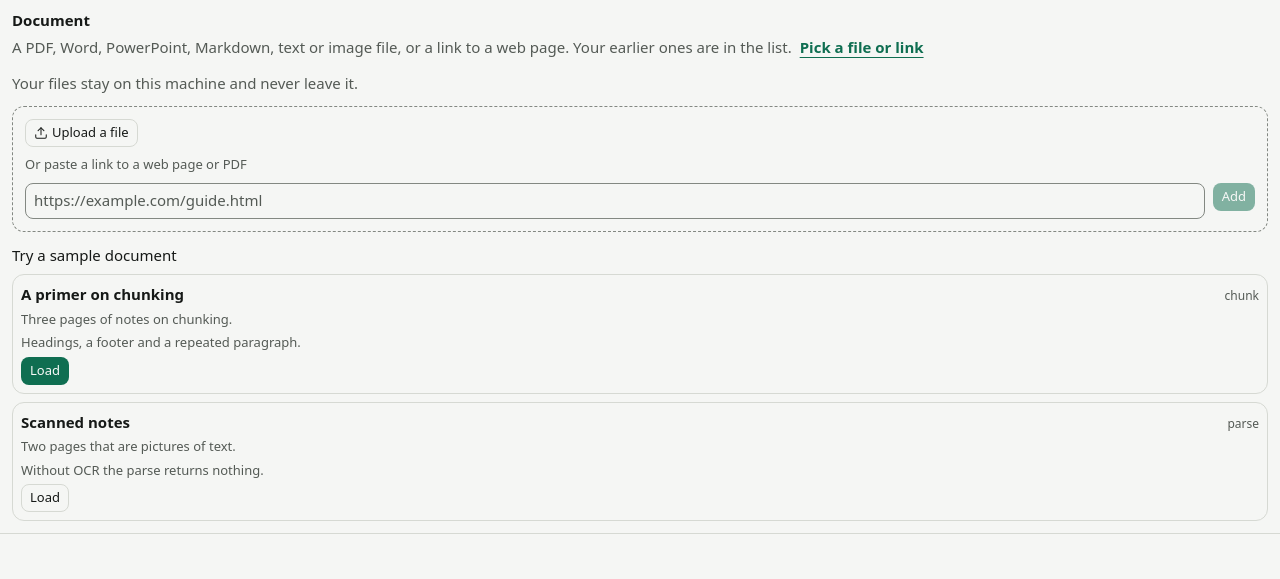
Test: FirstRun › shows the server's sentence when a link is refused
Step 1. Type "https://localhost/admin" into the field labelled "Or paste a link to a web page or PDF" → (615, 200), box [25,182,1205,218]
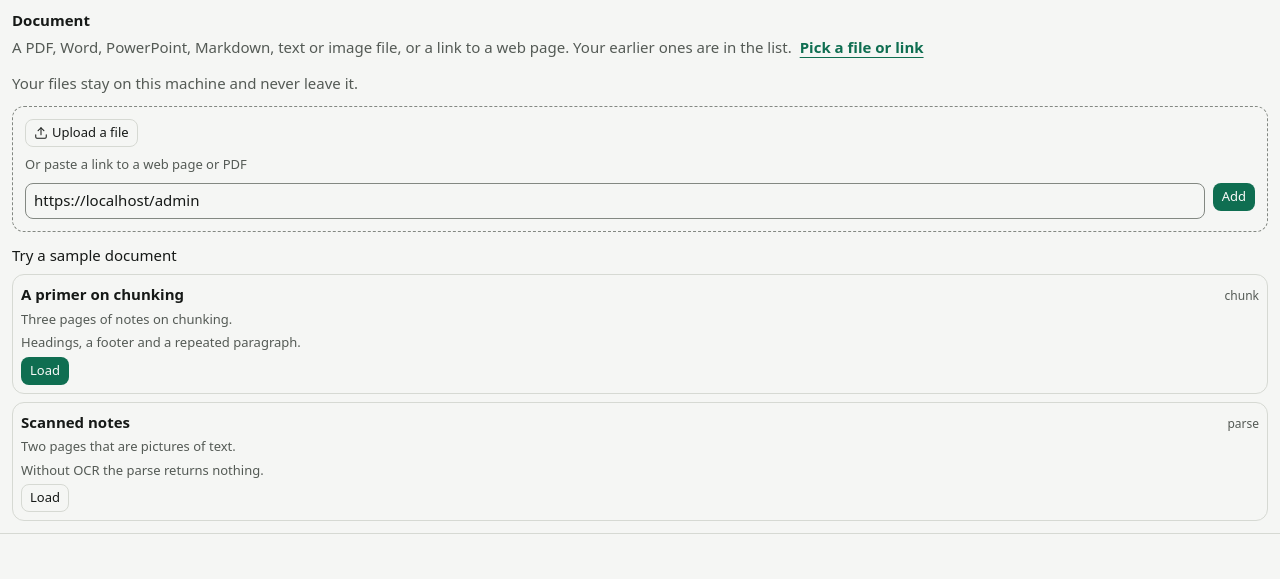
Step 2. Click the button with aria-label "Add link" → (1234, 196), box [1213,182,1255,210]
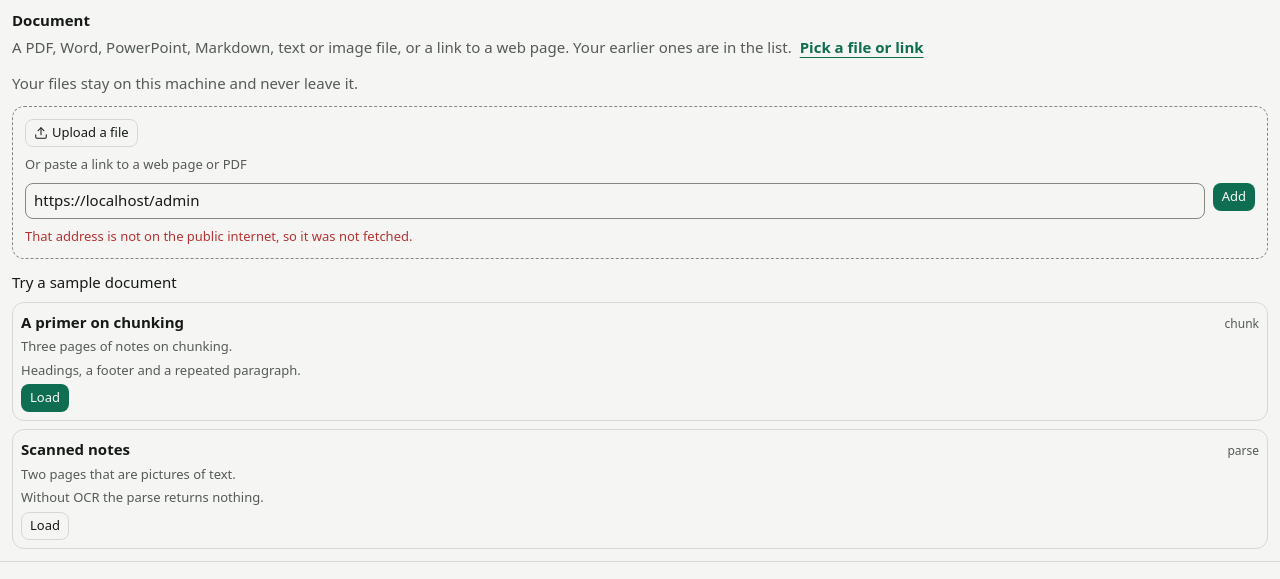
Expected: the message reads "That address is not on the public internet, so it was not fetched.", [25,226,412,244]
